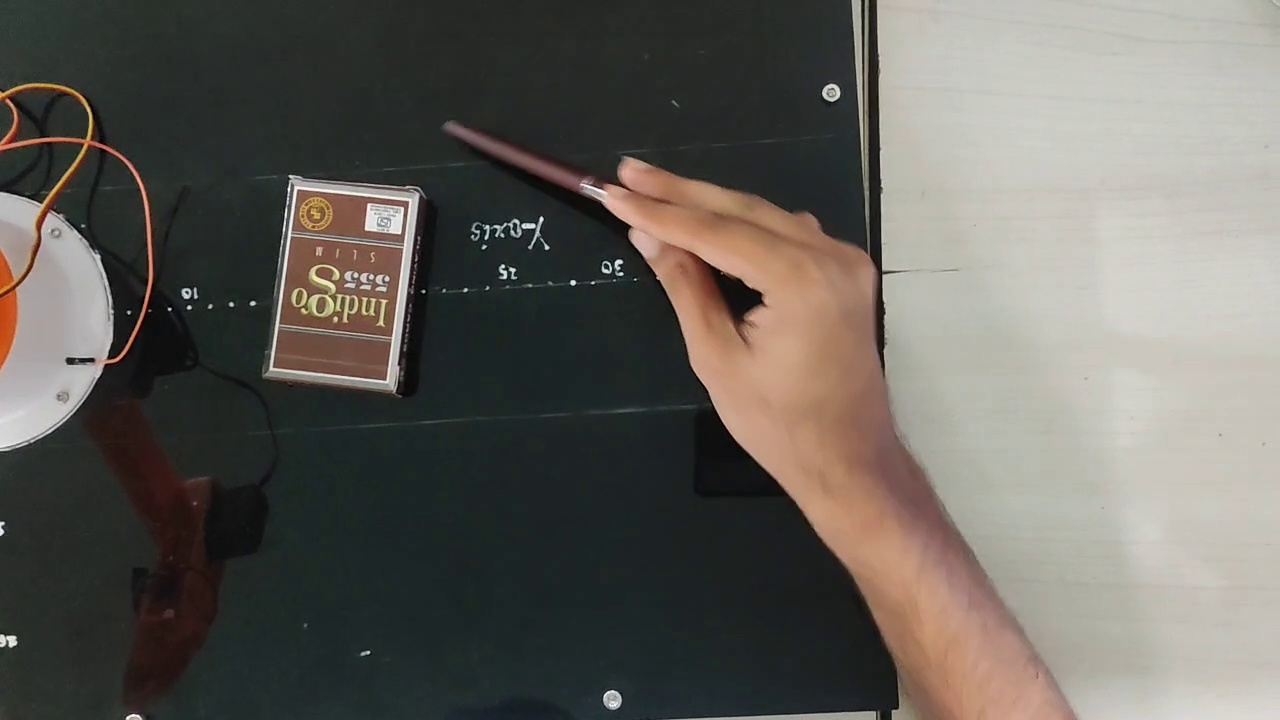BEX: (271, 187, 410, 382)
